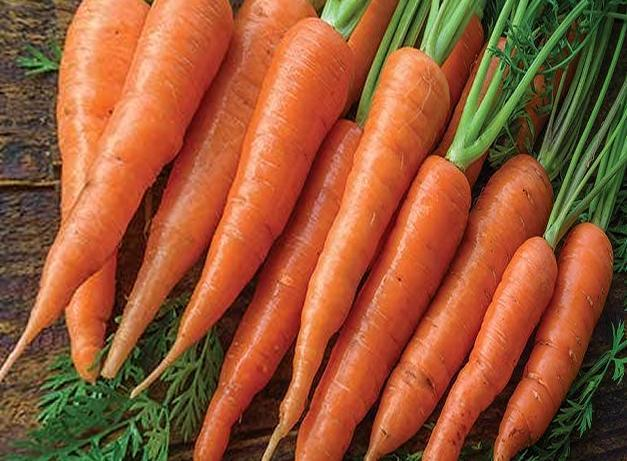carrot: (55, 0, 603, 461), (190, 43, 554, 461)
